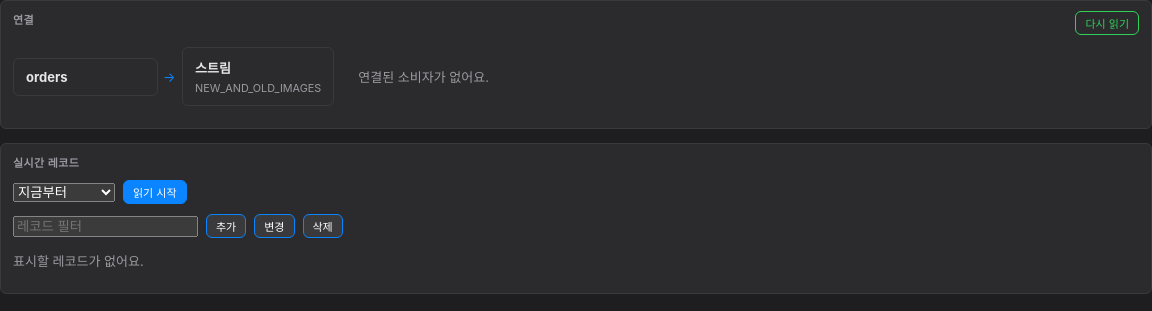
실시간 레코드 › 중지하면 세션을 지우고 다시 시작할 수 있다
The width and height of the screenshot is (1152, 311).
Click the button "읽기 시작" at (155, 192), box [123,180,187,204]
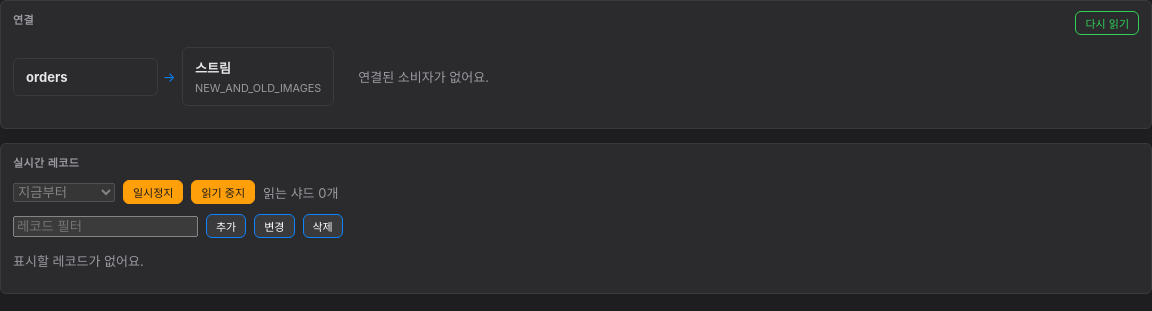
Click the button "읽기 중지" at (223, 192), box [192,180,255,204]
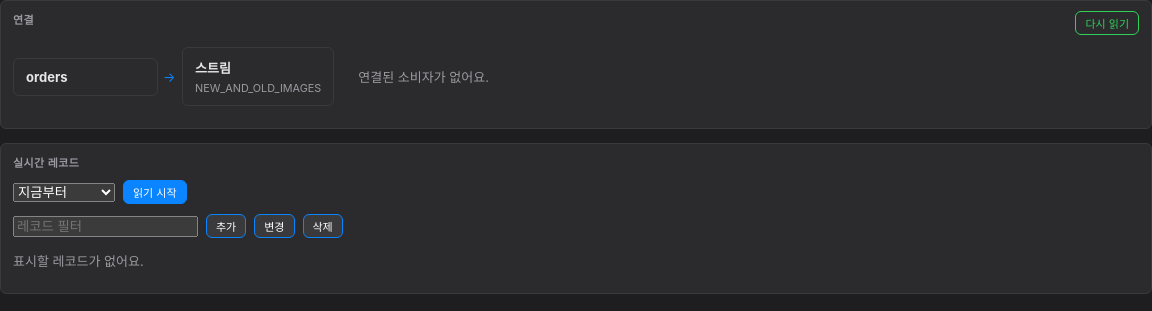
Now the button "읽기 시작" is shown, box [123,180,187,204]
